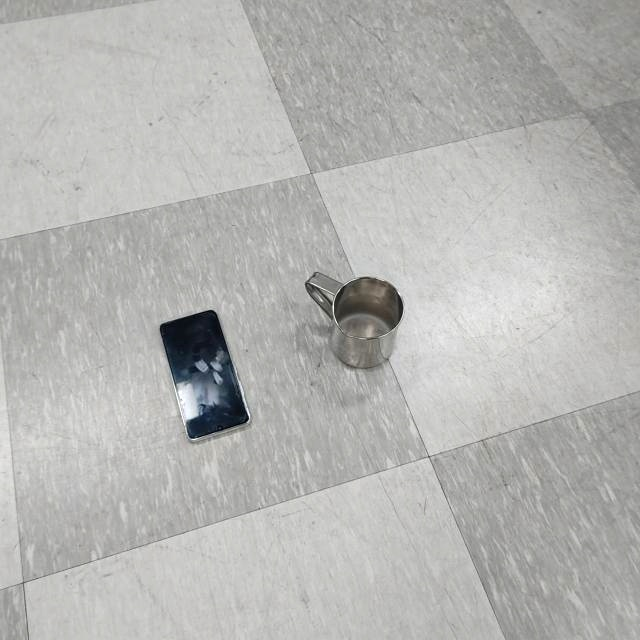cup: (303, 269, 406, 371)
phone: (157, 306, 251, 445)
